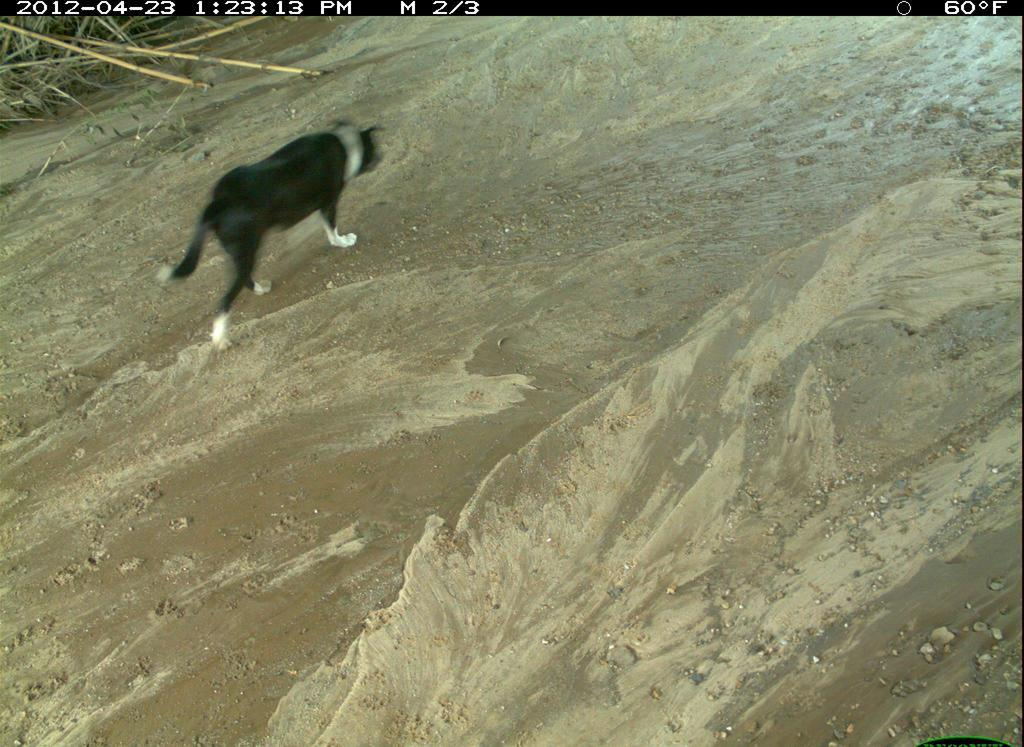dog: (298, 224, 788, 713)
